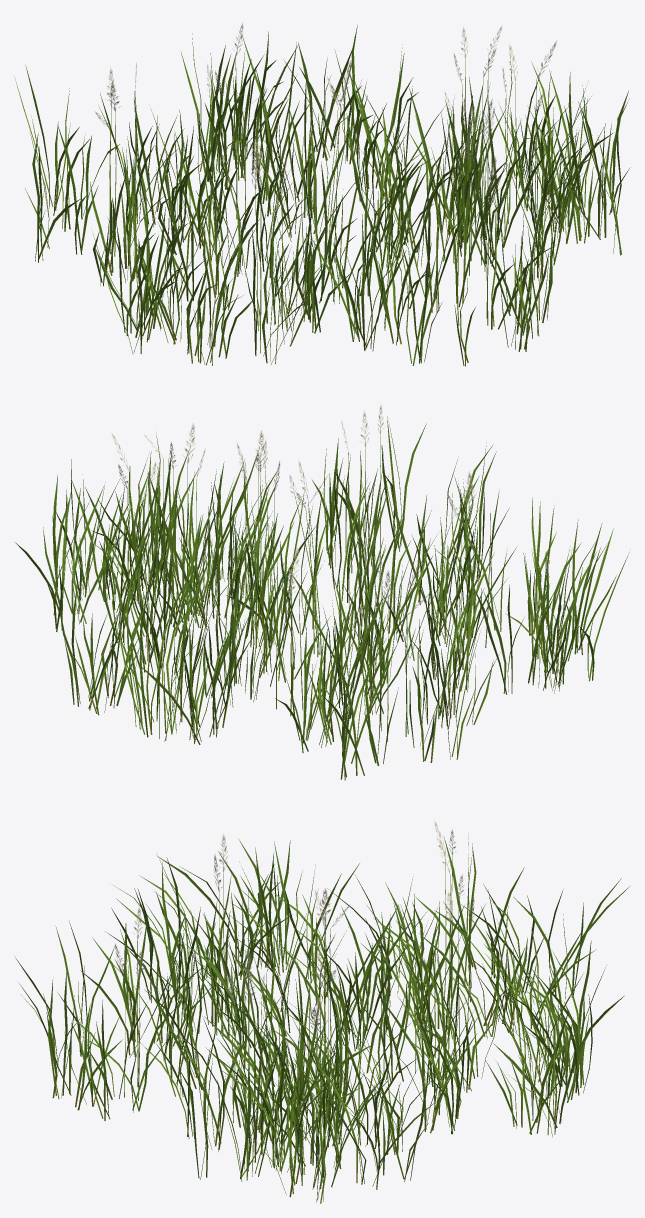
Rendered from grassmodel.glb.
The picture shows the model from 3 angles, top to bottom: view 1: azimuth 30°, elevation 25°; view 2: azimuth 150°, elevation 25°; view 3: azimuth 270°, elevation 25°; orthographic projection. The views are drawn at different scales.
Visible parts, largest first — view 1: Wild Grass Low Poly for Scatter; view 2: Wild Grass Low Poly for Scatter; view 3: Wild Grass Low Poly for Scatter.
Boxes of the visible parts, <box> form: Wild Grass Low Poly for Scatter: <box>14,22,630,366</box>; Wild Grass Low Poly for Scatter: <box>15,404,630,780</box>; Wild Grass Low Poly for Scatter: <box>14,820,630,1203</box>.
Size of the model in its own units: 3.05 by 1.09 by 3.07.
Materials: 3 (3 with a texture image).
